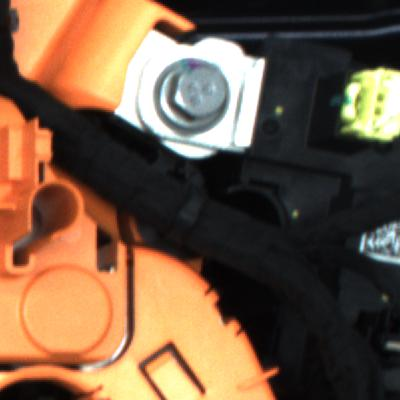nut_b: (156, 56, 247, 138)
